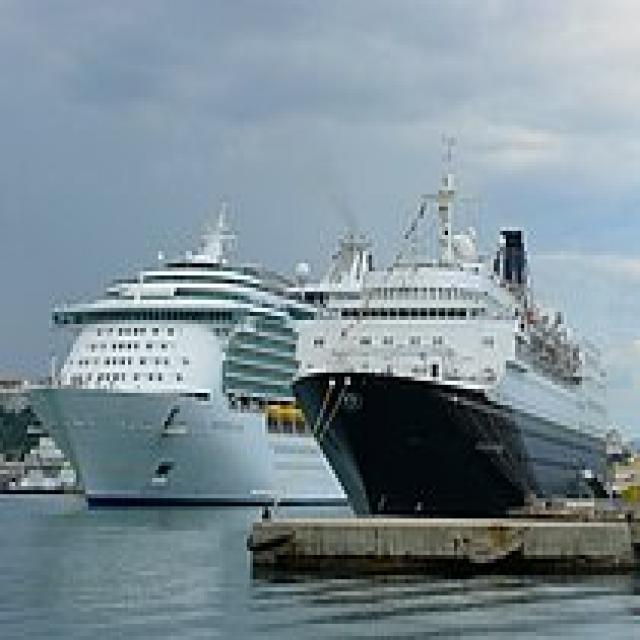Ship: (287, 123, 626, 516), (19, 188, 364, 512)
